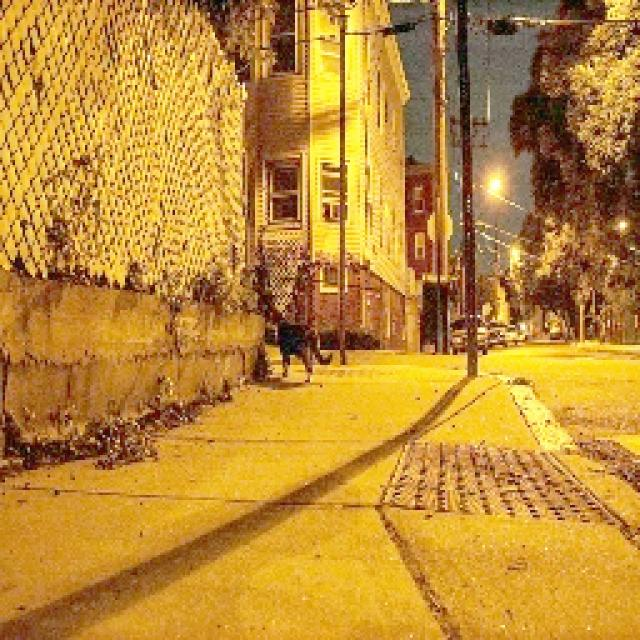cat: (264, 309, 338, 386)
